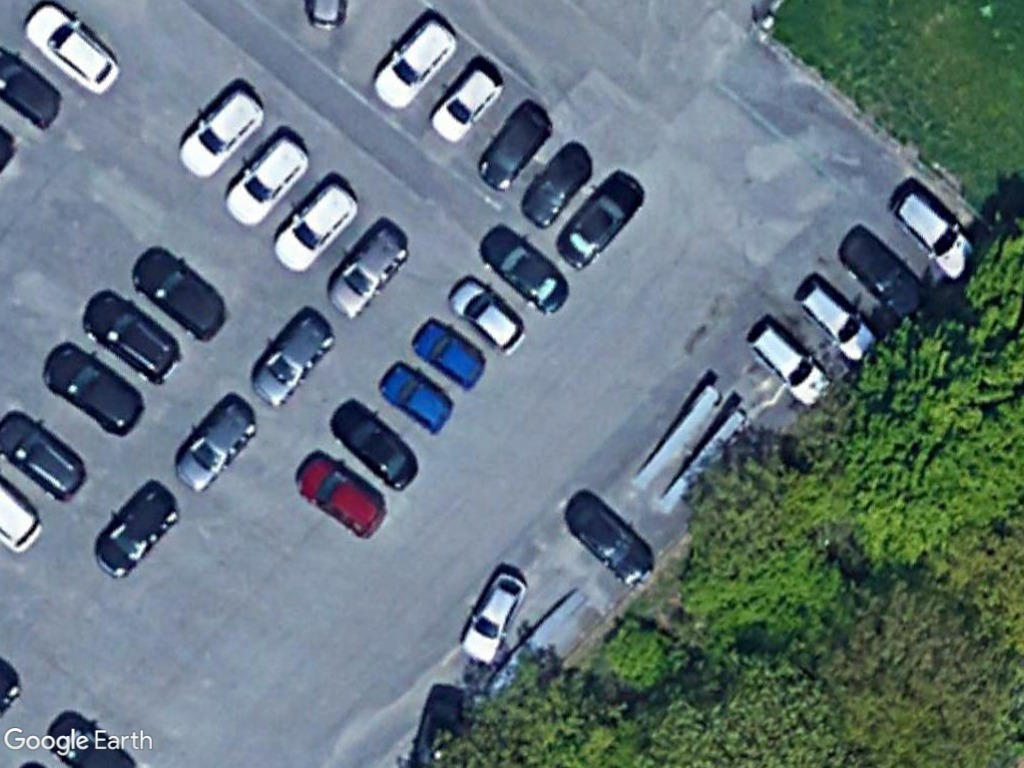car: (36, 338, 148, 439), (130, 240, 232, 344), (79, 285, 184, 384), (316, 397, 423, 494), (0, 396, 90, 510), (85, 477, 181, 581), (21, 3, 124, 96), (560, 494, 659, 590), (368, 14, 463, 114), (476, 221, 572, 318), (246, 305, 336, 408), (556, 172, 649, 270), (291, 453, 391, 543), (169, 395, 259, 495), (175, 85, 267, 181), (223, 134, 312, 232), (888, 184, 977, 281), (322, 224, 410, 320), (837, 229, 928, 321), (271, 181, 360, 275), (744, 319, 831, 412), (456, 564, 529, 669), (794, 273, 876, 364), (475, 104, 555, 193), (427, 60, 506, 145), (447, 274, 526, 359), (409, 312, 491, 393), (518, 144, 594, 229), (375, 359, 456, 433)
